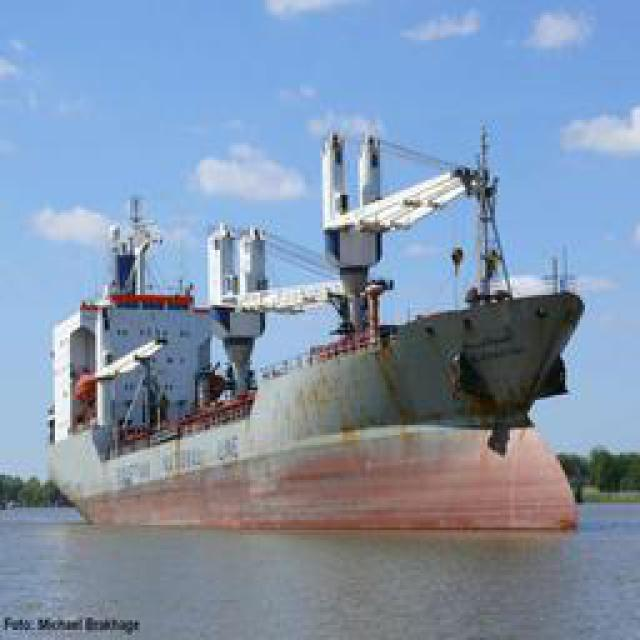Ship: (49, 79, 582, 524)
